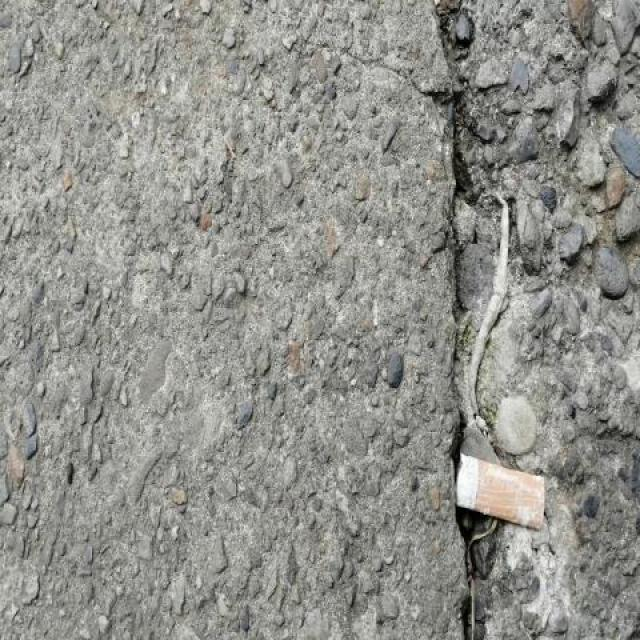non-organic waste: (452, 446, 549, 535)
